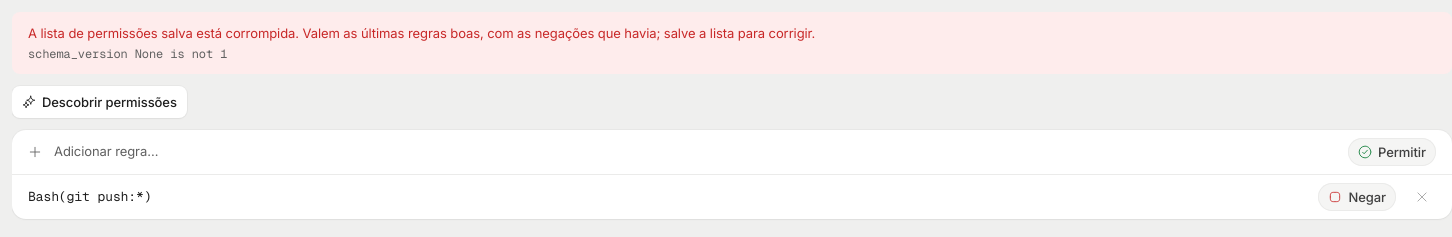
aba de permissões › uma lista salva corrompida avisa que valem as últimas regras boas e some ao salvar
Check: the message shows "Valem as últimas regras boas", box [28, 25, 815, 41]
Check: the message shows "schema_version None is not 1", box [28, 46, 227, 62]
Type "Bash(ls)" into the field labelled "Adicionar regra…" at (695, 152), box [54, 143, 1336, 161]
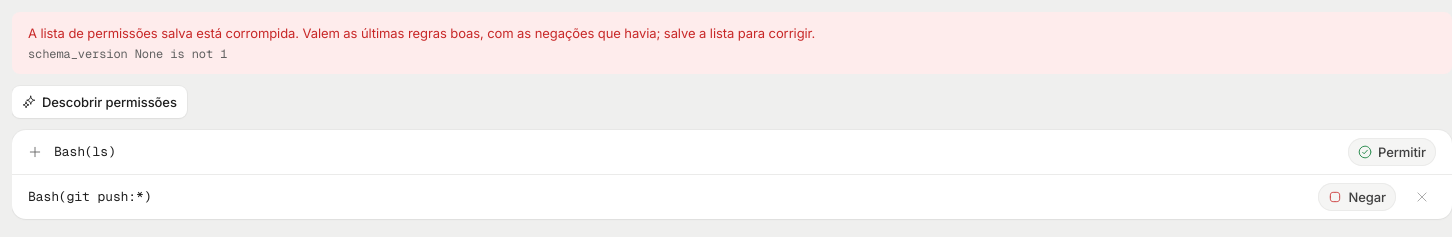
Submit the form from the field named "Adicionar regra…", box [54, 143, 1336, 161]
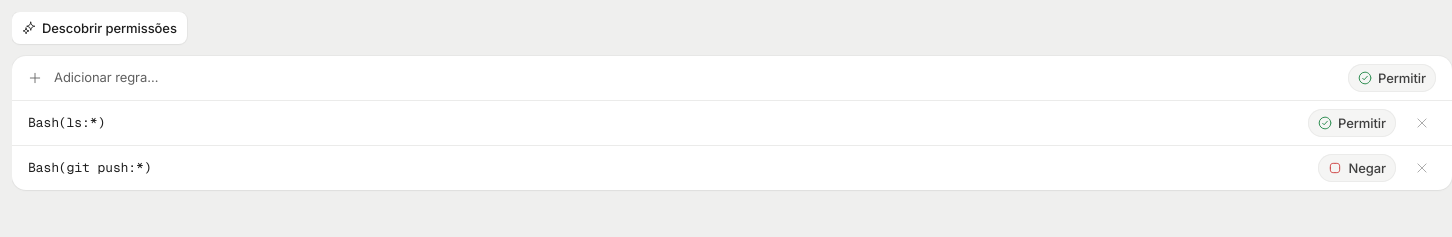
Check: the message is gone
